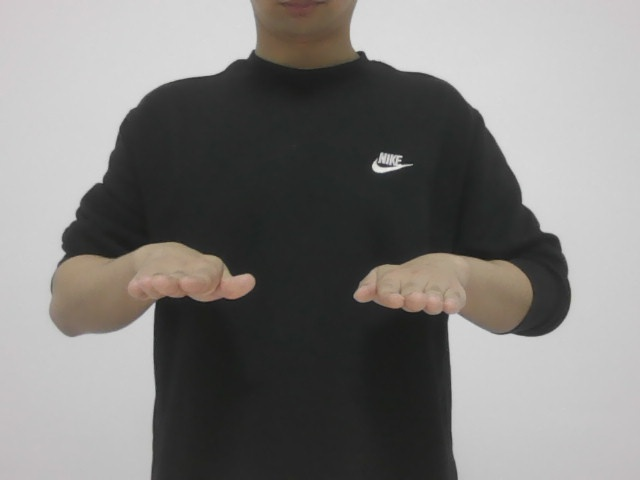flat: (127, 218, 467, 328)
